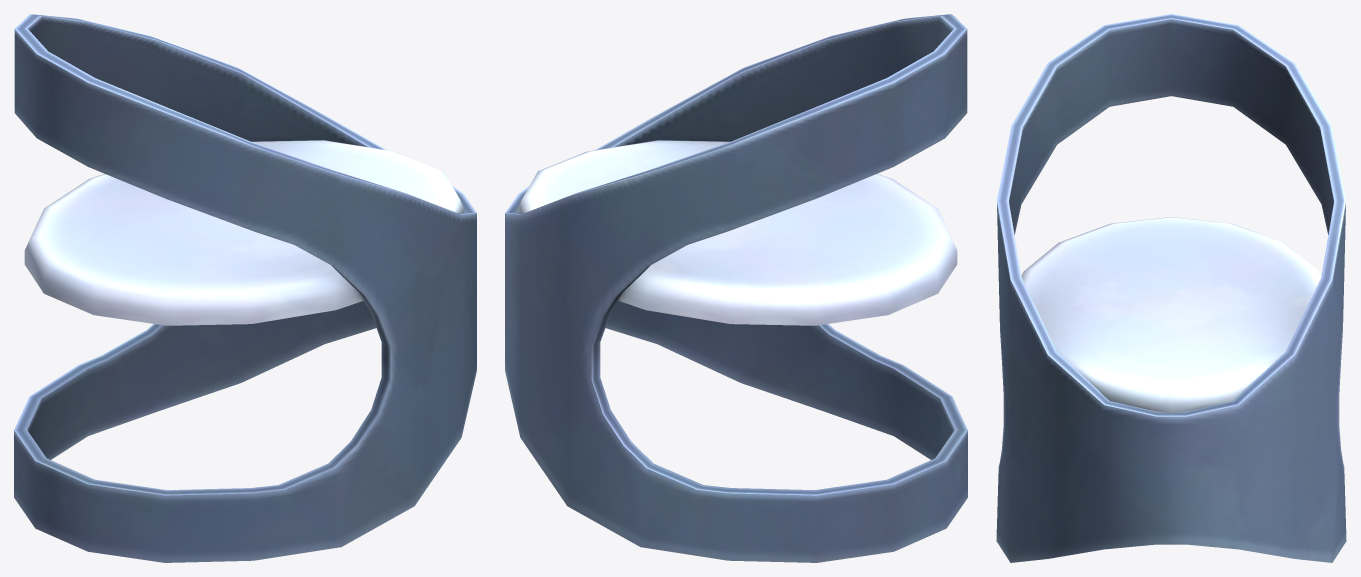
File: obj_seat01.gltf
3 renders of one model, left to right at view 1: azimuth 30°, elevation 25°; view 2: azimuth 150°, elevation 25°; view 3: azimuth 270°, elevation 25°, orthographic. The views are drawn at different scales.
Parts seen in each view (by area): view 1: obj_seat01; view 2: obj_seat01; view 3: obj_seat01.
Boxes of the visible parts, x1=… form: obj_seat01: x1=14, y1=14, x2=476, y2=562; obj_seat01: x1=505, y1=14, x2=967, y2=562; obj_seat01: x1=996, y1=14, x2=1346, y2=562.
Size of what is drawn, in the model's own units: 0.9629 by 1.04 by 0.7593.
Materials: 1 (1 with a texture image).
